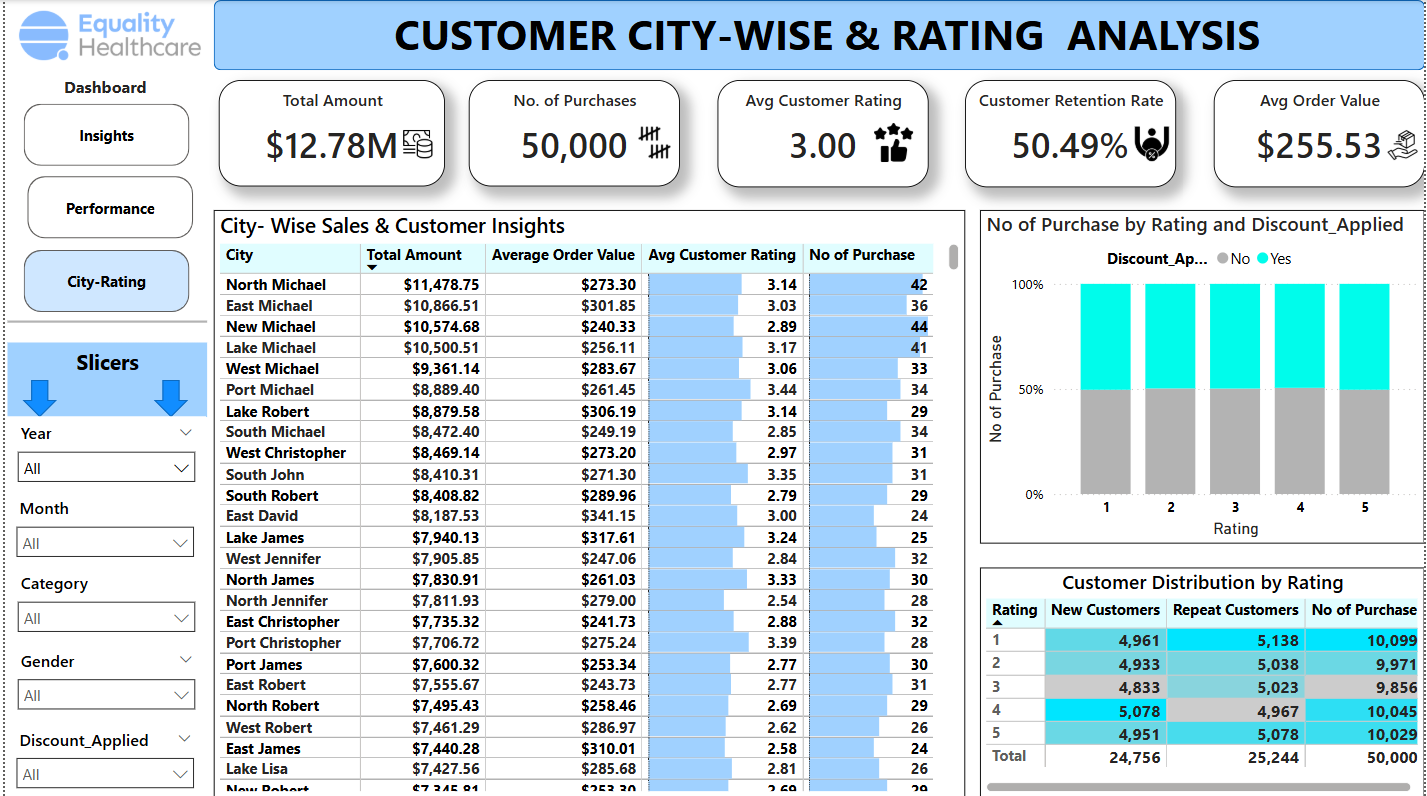

Layout of this report page (visuals, bound fields, positions):
{"tool":"powerbi","page":{"name":"Customer City- Rating Analysis","canvas":[1280,720],"ordinal":2},"visuals":[{"type":"shape","box":[187.8,0,1092.2,63.4],"z":0},{"type":"card","title":"Avg Order Value","fields":{"Values":["Measure Folder.Average Order Value"]},"box":[1089.8,72.1,190,97],"z":0,"group":"g5"},{"type":"group","id":"g1","title":"Group 4","box":[418.2,72.1,190.3,96],"z":1000,"group":"g5"},{"type":"shape","box":[2.5,281.1,180.4,18.7],"z":1000},{"type":"textbox","box":[345.8,0,807.3,63.4],"z":2000},{"type":"group","id":"g2","title":"Group 5","box":[192.8,72.1,204,95.8],"z":2000,"group":"g5"},{"type":"group","id":"g3","title":"Group 1","box":[642.3,72.1,190,96.5],"z":3000,"group":"g5"},{"type":"textbox","box":[2.5,308.5,180.4,67.2],"z":3000},{"type":"group","id":"g4","title":"Group 2","box":[866,72.1,190.2,96.5],"z":4000,"group":"g5"},{"type":"pivotTable","title":"City- Wise Sales & Customer Insights","fields":{"Rows":["data.City"],"Values":["Measure Folder.Total Purchase Amount","Measure Folder.Average Order Value","Measure Folder.Avg Customer Rating","Measure Folder.Nr of Purchase"]},"box":[188.4,189.5,677.9,530.2],"z":4000},{"type":"shape","box":[16.2,342.1,31.1,33.6],"z":5000},{"type":"hundredPercentStackedColumnChart","fields":{"Category":["data.Rating"],"Y":["Divide(Measure Folder.Nr of Purchase, ScopedEval(Measure Folder.Nr of Purchase, []))"],"Series":["data.Discount_Applied"]},"box":[879.5,189.1,400.6,301],"z":6000},{"type":"card","title":"Total Amount","fields":{"Values":["Measure Folder.Total Purchase Amount"]},"box":[192.8,72.1,204,95.8],"z":7000,"group":"g2"},{"type":"shape","box":[134.3,342.1,31.1,33.6],"z":7000},{"type":"card","title":"No. of Purchases","fields":{"Values":["Measure Folder.Nr of Purchase"]},"box":[418.2,72.1,190,96],"z":8000,"group":"g1"},{"type":"pivotTable","title":"Customer Distribution by Rating","fields":{"Rows":["data.Rating"],"Values":["Measure Folder.New Customers","Measure Folder.Repeat Customers","Measure Folder.Nr of Purchase"]},"box":[879.5,511.3,400.6,209],"z":8000},{"type":"image","box":[1.2,0,186.6,63.4],"z":9000},{"type":"slicer","fields":{"Values":["data.Year"]},"box":[1.2,375.7,180.4,64.7],"z":10000},{"type":"card","title":"Avg Customer Rating","fields":{"Values":["data.Avg Customer Rating"]},"box":[642.3,72.1,190,96.5],"z":11000,"group":"g3"},{"type":"slicer","fields":{"Values":["data.Month Name"]},"box":[0,443.4,180.4,64.7],"z":11000},{"type":"slicer","fields":{"Values":["data.Category"]},"box":[1.2,511.1,180.4,65.9],"z":12000},{"type":"slicer","fields":{"Values":["data.Gender"]},"box":[1.2,580.1,180.4,68.4],"z":13000},{"type":"slicer","fields":{"Values":["data.Discount_Applied"]},"box":[0,651.6,180.4,68.4],"z":14000},{"type":"textbox","box":[16.2,63.4,149.3,31.1],"z":15000},{"type":"card","title":"Customer Retention Rate","fields":{"Values":["data.Customer Retention Rate"]},"box":[866,72.1,190,96.5],"z":15000,"group":"g4"},{"type":"group","id":"g5","title":"Group 3","box":[192.8,72.1,1087.2,97],"z":16000},{"type":"image","box":[1241.5,112,38.6,38.6],"z":17000},{"type":"actionButton","title":"Insihts","box":[17.4,225.2,149.3,56],"z":18000},{"type":"actionButton","title":"Insihts","box":[19.9,159.2,149.3,56],"z":19000},{"type":"actionButton","title":"Insihts","box":[17.4,93.3,149.3,56],"z":20000},{"type":"image","box":[562.5,109.4,46,38.6],"z":23004,"group":"g1"},{"type":"image","box":[348.3,106.9,48.5,44.8],"z":23006,"group":"g2"},{"type":"image","box":[1012.6,109.5,43.5,41.1],"z":26000,"group":"g4"},{"type":"image","box":[778.8,103.3,44.8,49.8],"z":27000,"group":"g3"}]}

Visuals, with their boxes on the page's 1280x720 design canvas (x1, y1, x2, y2). These are canvas units, not pixel positions in the 1427x796 screenshot, which may show the page scaled, cropped or inside an application window:
shape: crop(188, 0, 1280, 63)
"Avg Order Value" card: crop(1090, 72, 1280, 169)
"Group 4" group: crop(418, 72, 608, 168)
shape: crop(2, 281, 183, 300)
textbox: crop(346, 0, 1153, 63)
"Group 5" group: crop(193, 72, 397, 168)
"Group 1" group: crop(642, 72, 832, 169)
textbox: crop(2, 308, 183, 376)
"Group 2" group: crop(866, 72, 1056, 169)
"City- Wise Sales & Customer Insights" pivotTable: crop(188, 190, 866, 720)
shape: crop(16, 342, 47, 376)
hundredPercentStackedColumnChart - data.Rating x Divide(Measure Folder.Nr of Purchase, ScopedEval(Measure Folder.Nr of Purchase, [])): crop(880, 189, 1280, 490)
"Total Amount" card: crop(193, 72, 397, 168)
shape: crop(134, 342, 165, 376)
"No. of Purchases" card: crop(418, 72, 608, 168)
"Customer Distribution by Rating" pivotTable: crop(880, 511, 1280, 720)
image: crop(1, 0, 188, 63)
slicer - data.Year: crop(1, 376, 182, 440)
"Avg Customer Rating" card: crop(642, 72, 832, 169)
slicer - data.Month Name: crop(0, 443, 180, 508)
slicer - data.Category: crop(1, 511, 182, 577)
slicer - data.Gender: crop(1, 580, 182, 648)
slicer - data.Discount_Applied: crop(0, 652, 180, 720)
textbox: crop(16, 63, 166, 94)
"Customer Retention Rate" card: crop(866, 72, 1056, 169)
"Group 3" group: crop(193, 72, 1280, 169)
image: crop(1242, 112, 1280, 151)
"Insihts" actionButton: crop(17, 225, 167, 281)
"Insihts" actionButton: crop(20, 159, 169, 215)
"Insihts" actionButton: crop(17, 93, 167, 149)
image: crop(562, 109, 608, 148)
image: crop(348, 107, 397, 152)
image: crop(1013, 110, 1056, 151)
image: crop(779, 103, 824, 153)
